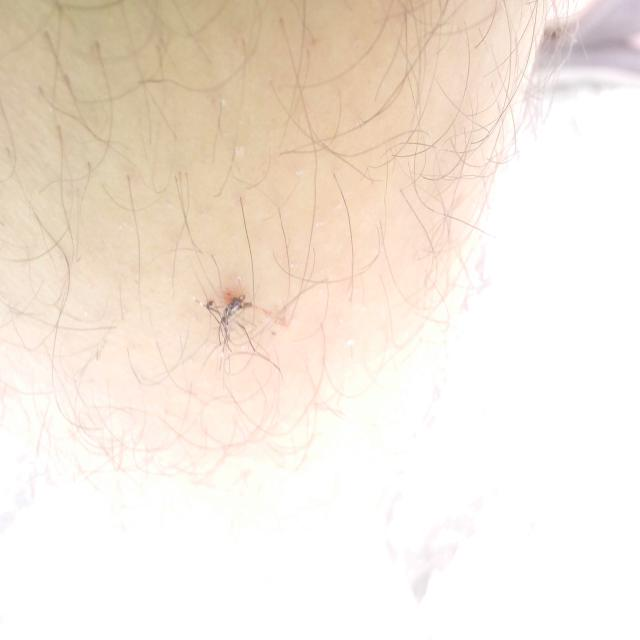albopictus: (184, 257, 282, 396)
